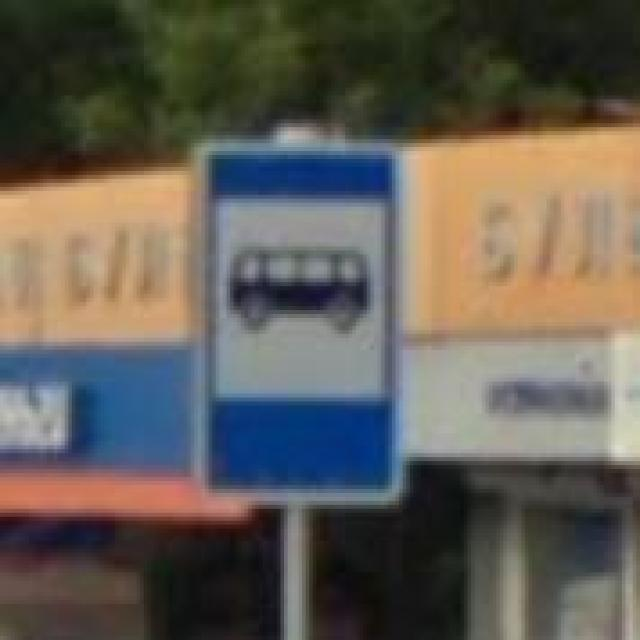bus_stop: (194, 139, 403, 505)
